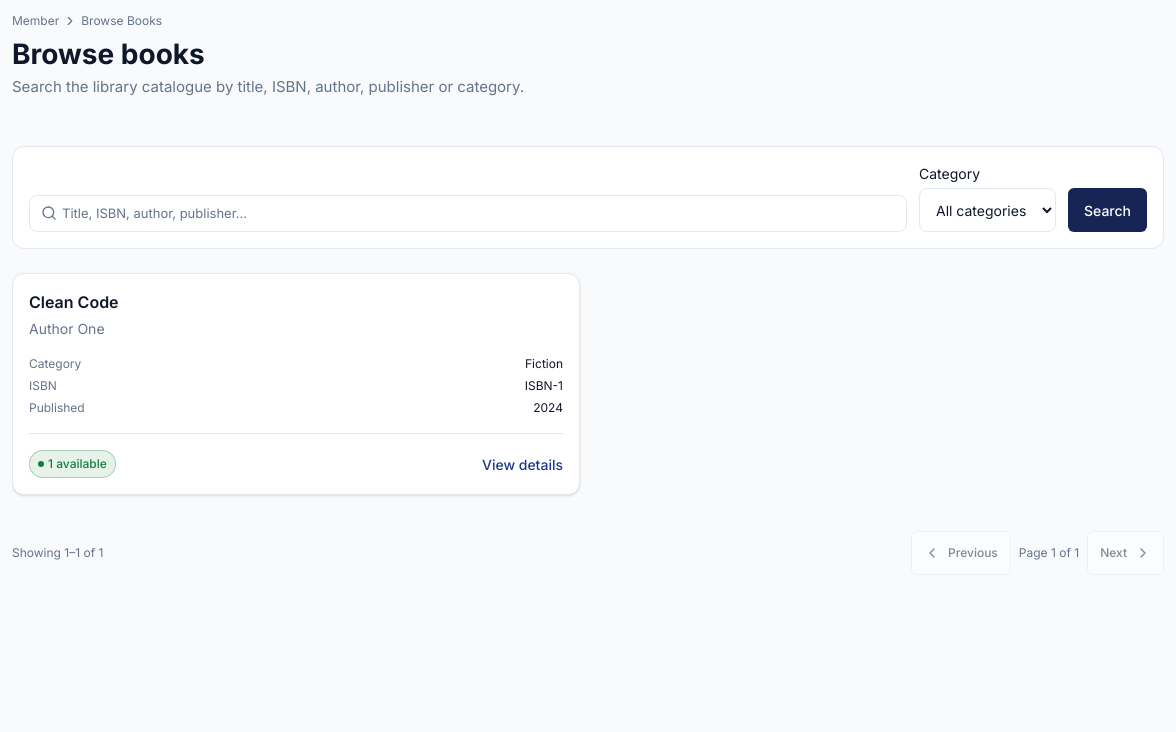
Test case: CataloguePage › renders real backend books and searches through the search endpoint
This screenshot has width=1176, height=732.
Expected: the heading "Clean Code" is shown, [29,292,119,312]
Expected: the text "1 available" is shown, [29,450,116,478]
Type "refactor" into the search field named "Search the catalogue" at point(468, 213), box [29,195,907,232]
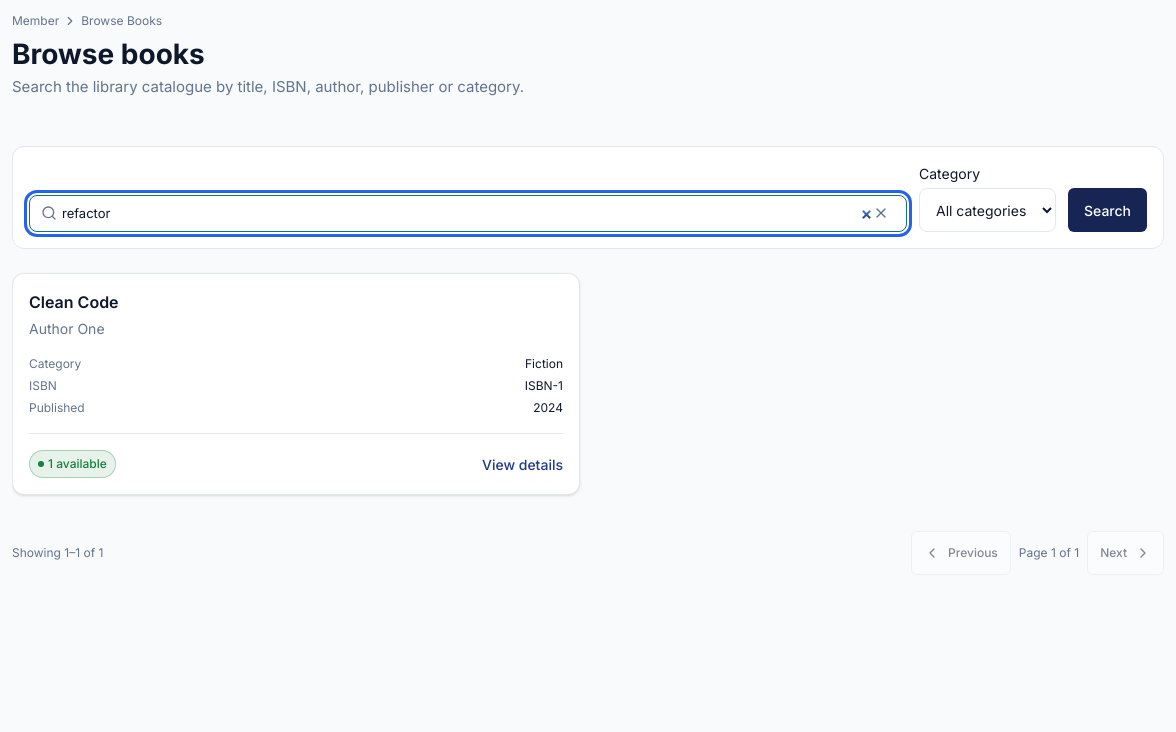
Click the button "Search" at point(1108, 210), box [1068,188,1147,232]
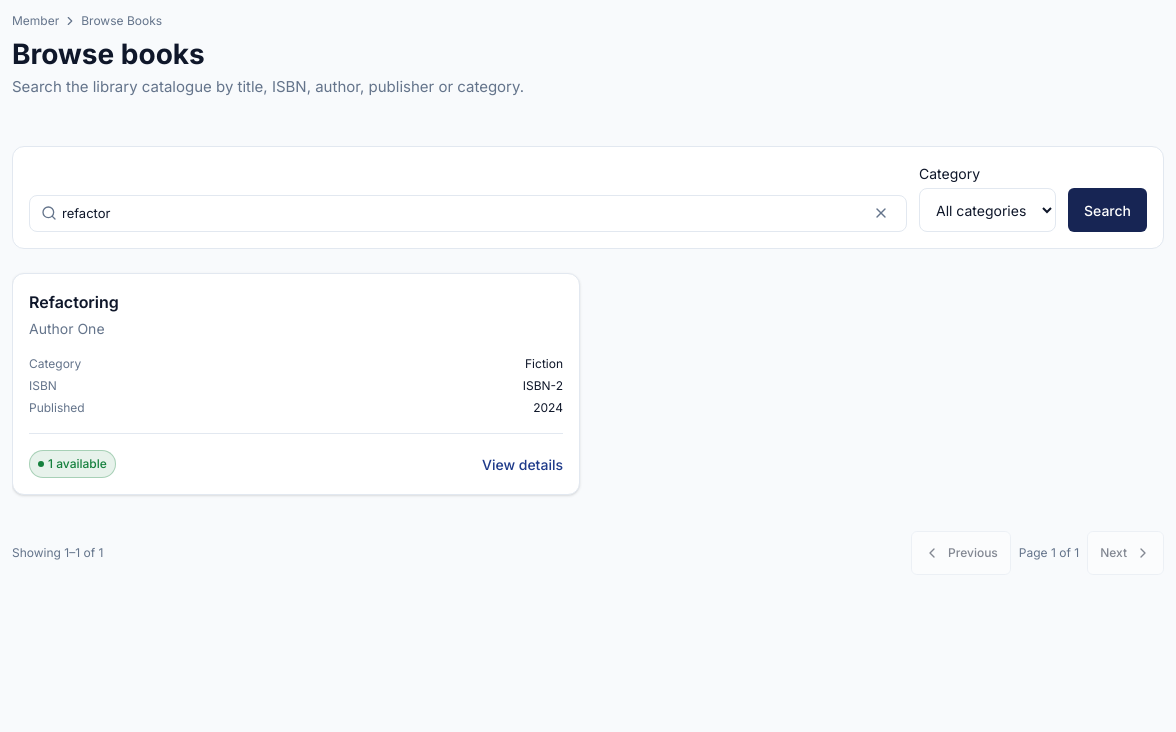
Result: the heading "Refactoring" is shown at [29,292,119,312]
